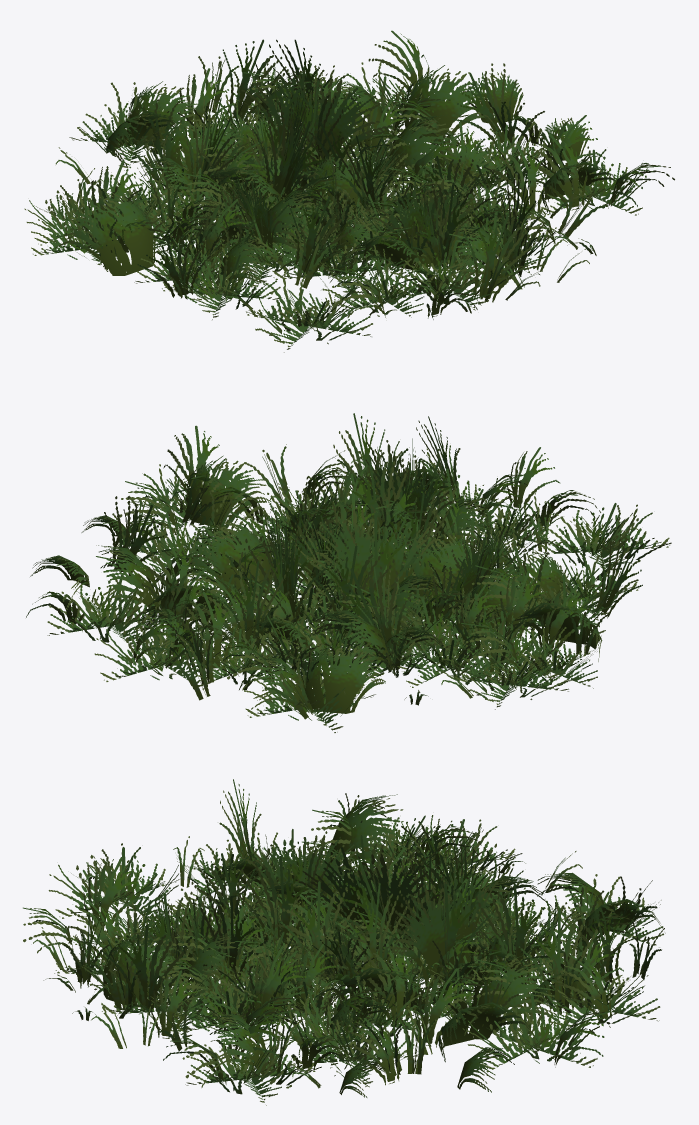
File: Grass4.fbx
3 renders of one model, top to bottom at view 1: azimuth 30°, elevation 25°; view 2: azimuth 150°, elevation 25°; view 3: azimuth 270°, elevation 25°, orthographic. The views are drawn at different scales.
Parts seen in each view (by area): view 1: Grass4_LOD0; view 2: Grass4_LOD0; view 3: Grass4_LOD0.
Boxes of the visible parts, x1,y1,x2,y2 form: Grass4_LOD0: (24, 30, 674, 352); Grass4_LOD0: (26, 413, 671, 732); Grass4_LOD0: (23, 779, 665, 1105).
Size of what is drawn, in the model's own units: 2.04 by 2.03 by 0.5008.
